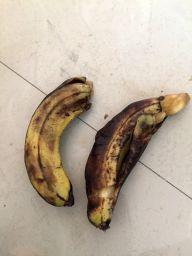banana: (83, 91, 192, 234), (22, 73, 95, 209)
